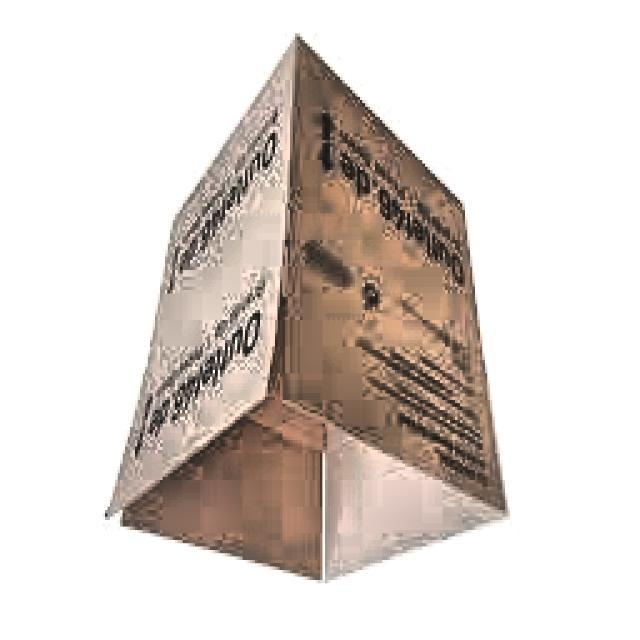cardboard: (105, 37, 513, 590)
